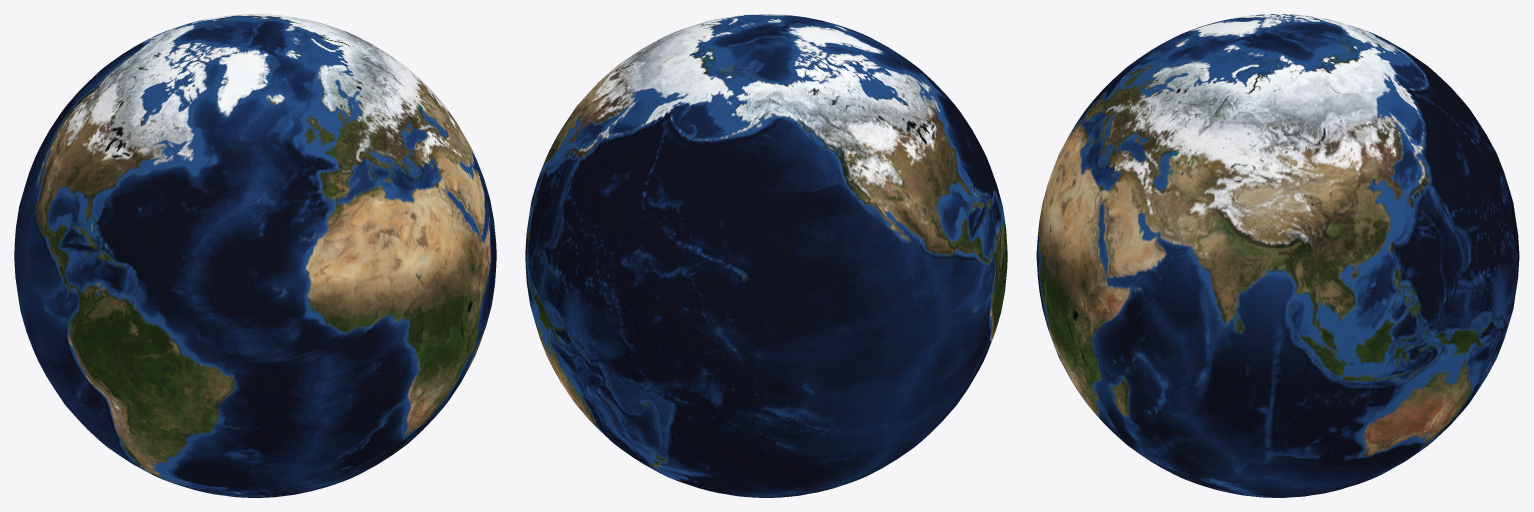
Rendered from earth.glb.
The picture shows the model from 3 angles, left to right: view 1: azimuth 30°, elevation 25°; view 2: azimuth 150°, elevation 25°; view 3: azimuth 270°, elevation 25°; orthographic projection.
Visible parts, largest first — view 1: Earth; view 2: Earth; view 3: Earth.
Boxes of the visible parts, x1=… form: Earth: x1=14, y1=14, x2=496, y2=497; Earth: x1=525, y1=14, x2=1007, y2=497; Earth: x1=1036, y1=14, x2=1519, y2=497.
Size of the model in its own units: 1.72 by 1.73 by 1.72.
Materials: 1 (1 with a texture image).
